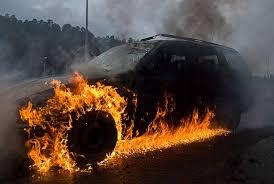fire: (15, 58, 251, 169)
